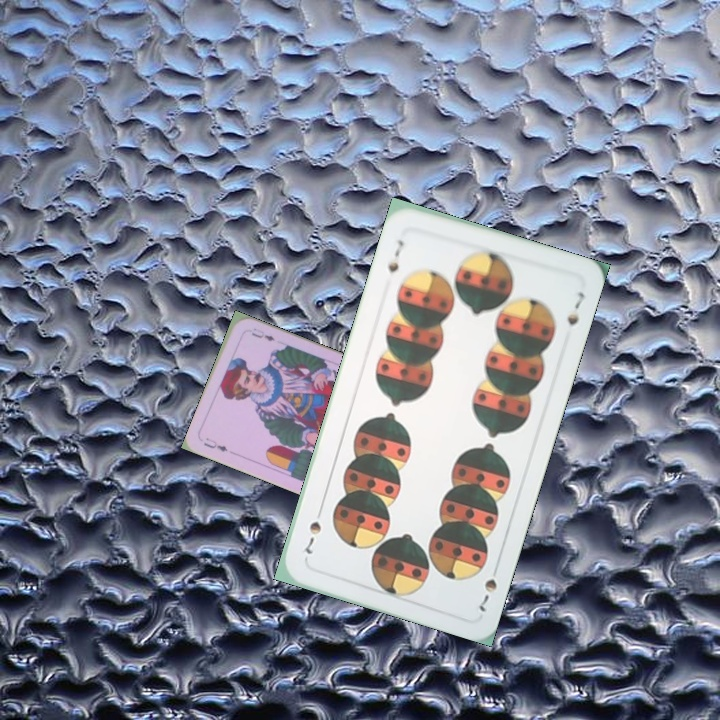EU: (199, 433, 230, 454)
S7: (475, 559, 502, 615), (384, 235, 406, 275)
